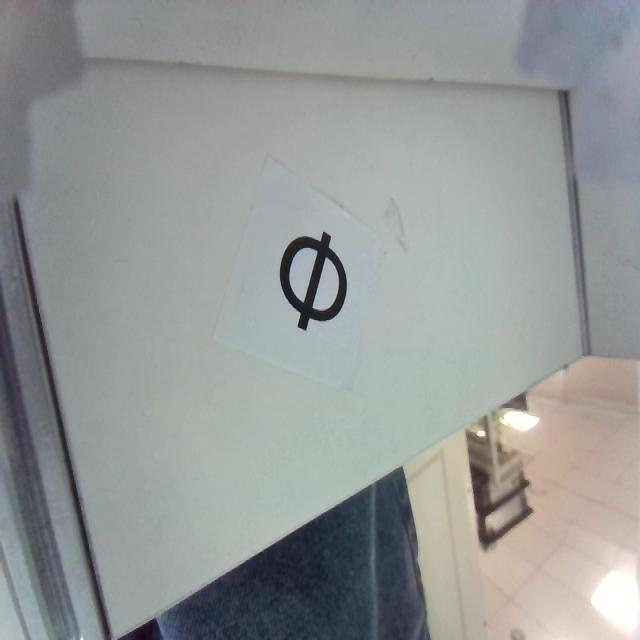F: (279, 228, 346, 328)
